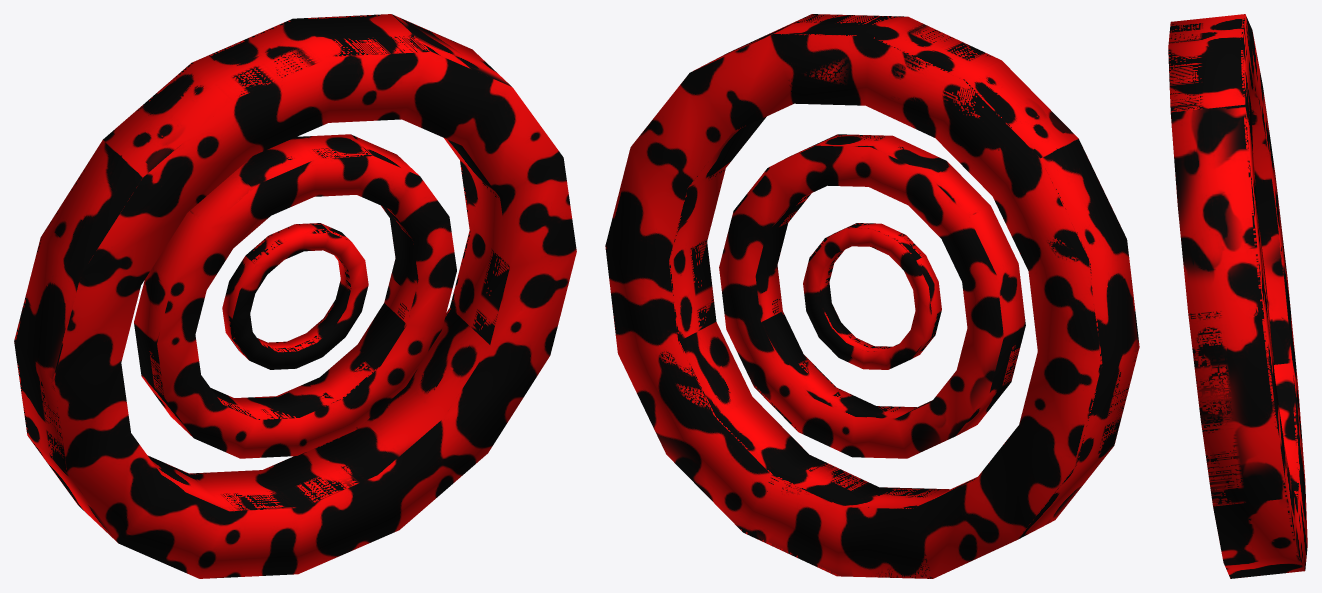
Rendered from Circulo.fbx.
3 views of the same model, side by side, from view 1: azimuth 30°, elevation 25°; view 2: azimuth 150°, elevation 25°; view 3: azimuth 270°, elevation 25° (orthographic). The views are drawn at different scales.
Visible parts, largest first — view 1: Circulo; view 2: Circulo; view 3: Circulo.
Part boxes in pixels (x1=…): Circulo: x1=14, y1=14, x2=576, y2=578; Circulo: x1=605, y1=14, x2=1139, y2=578; Circulo: x1=1168, y1=14, x2=1307, y2=578.
Size of the model in its own units: 105 by 106 by 26.15.
